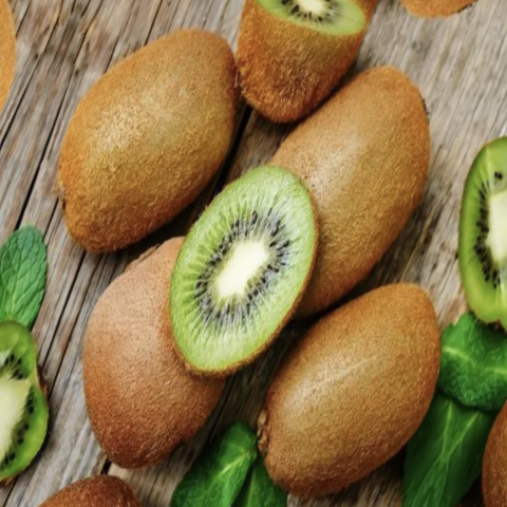kiwi: (203, 15, 472, 353), (27, 176, 291, 498), (15, 0, 286, 302), (227, 236, 489, 507)
